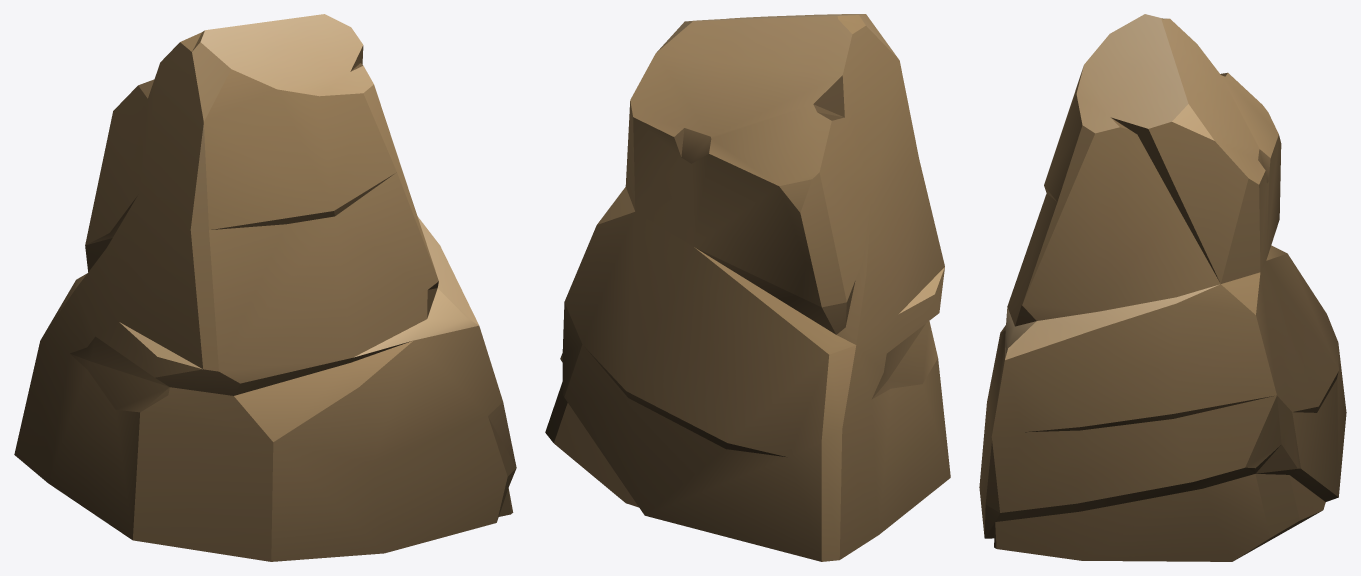
The model's file is Rock_Boulder_2A.fbx.
3 renders of one model, left to right at view 1: azimuth 30°, elevation 25°; view 2: azimuth 150°, elevation 25°; view 3: azimuth 270°, elevation 25°, orthographic. The views are drawn at different scales.
Visible parts, largest first — view 1: Rock_Boulder_2A; view 2: Rock_Boulder_2A; view 3: Rock_Boulder_2A.
Boxes of the visible parts, box(x1,y1,x2,y2) form: Rock_Boulder_2A: box(14, 14, 516, 561); Rock_Boulder_2A: box(545, 14, 950, 561); Rock_Boulder_2A: box(979, 14, 1346, 561).
Bounding box in the file's own units: 710 × 914 × 701.
